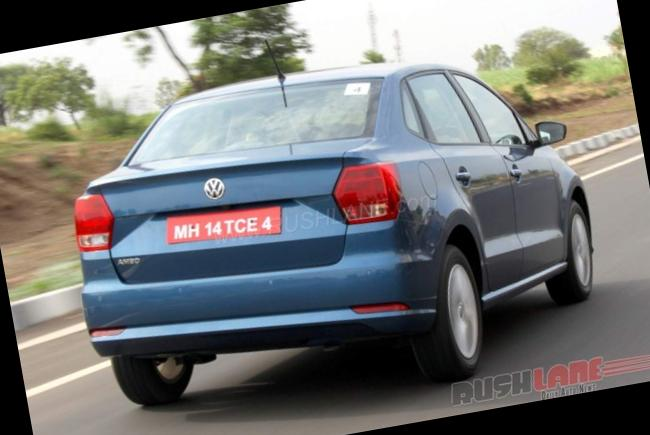plate: (157, 188, 297, 258)
